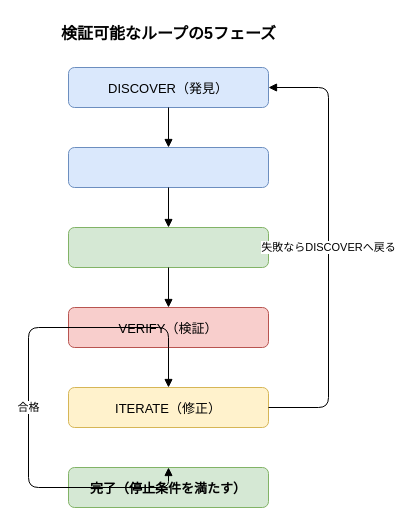
Some shapes in this 412 by 525 pixel diagram are drawn without their labels. The shapes that lost their labels are listed below. From the top down, each one's box as (x1, y1, x2, y2) in pixels, then its label:
(68, 146, 268, 188): PLAN（計画）
(68, 226, 268, 268): EXECUTE（実行）
